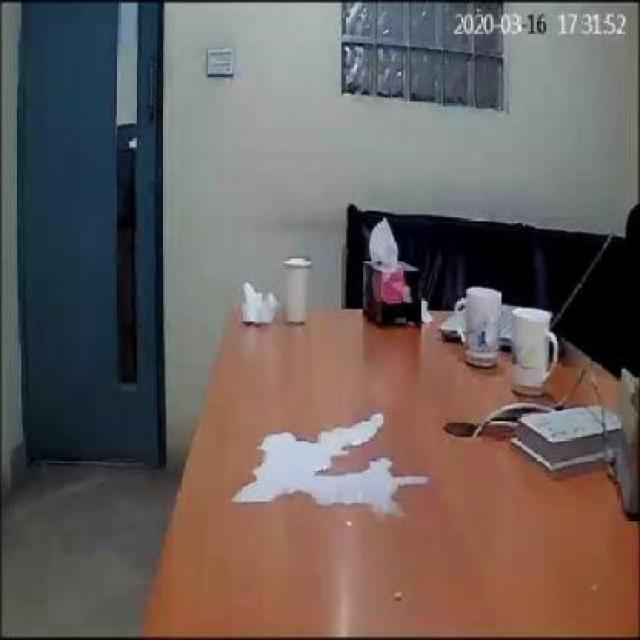spillage: (231, 413, 429, 517)
